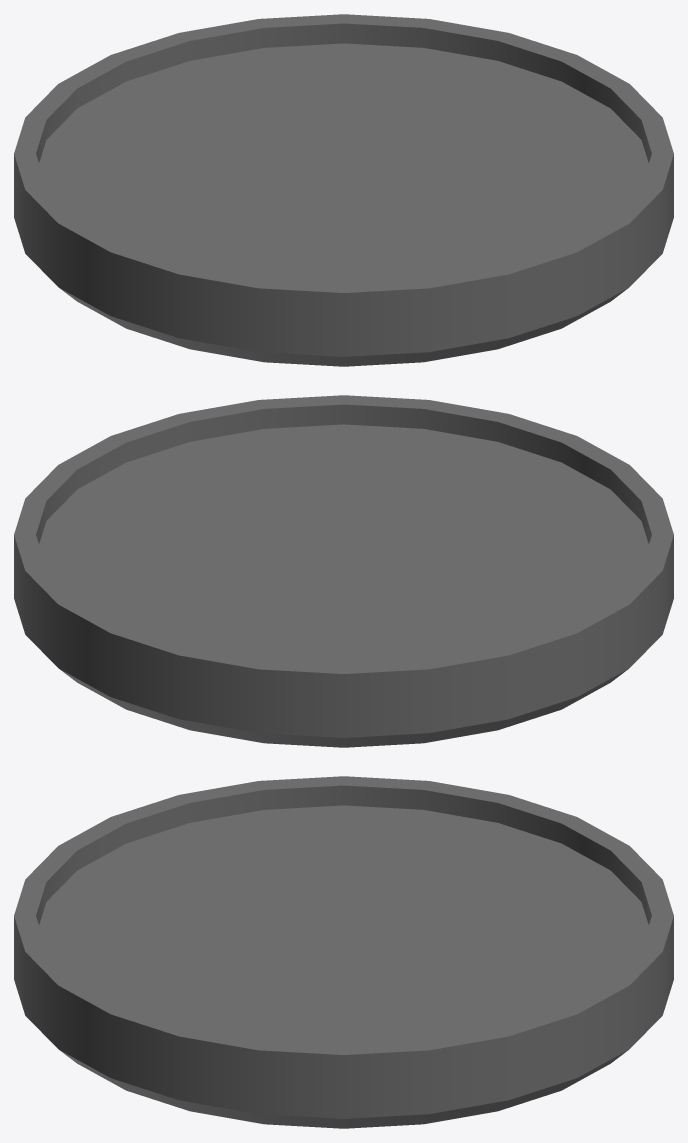
File: Alnair_Parachute_1.obj
3 views of the same model, one above another, from view 1: azimuth 30°, elevation 25°; view 2: azimuth 150°, elevation 25°; view 3: azimuth 270°, elevation 25° (orthographic).
Parts seen in each view (by area): view 1: Alnair_Parachute_1; view 2: Alnair_Parachute_1; view 3: Alnair_Parachute_1.
Boxes of the visible parts, <box> form: Alnair_Parachute_1: <box>14,14,673,366</box>; Alnair_Parachute_1: <box>14,395,673,747</box>; Alnair_Parachute_1: <box>14,776,673,1128</box>.
Bounding box in the file's own units: 0.9375 × 0.13 × 0.9375.
